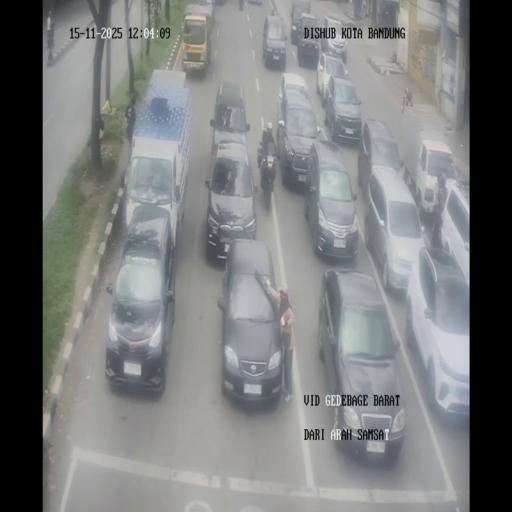3: (182, 2, 216, 77)
car: (318, 268, 402, 460), (104, 204, 178, 391), (405, 245, 469, 425), (218, 239, 284, 407), (364, 165, 424, 294), (204, 138, 258, 261), (304, 139, 358, 262), (276, 75, 320, 189), (322, 74, 362, 144), (261, 14, 288, 68), (296, 14, 322, 67), (322, 15, 350, 62)
truck: (94, 113, 104, 142), (46, 20, 54, 48), (238, 0, 244, 10)
